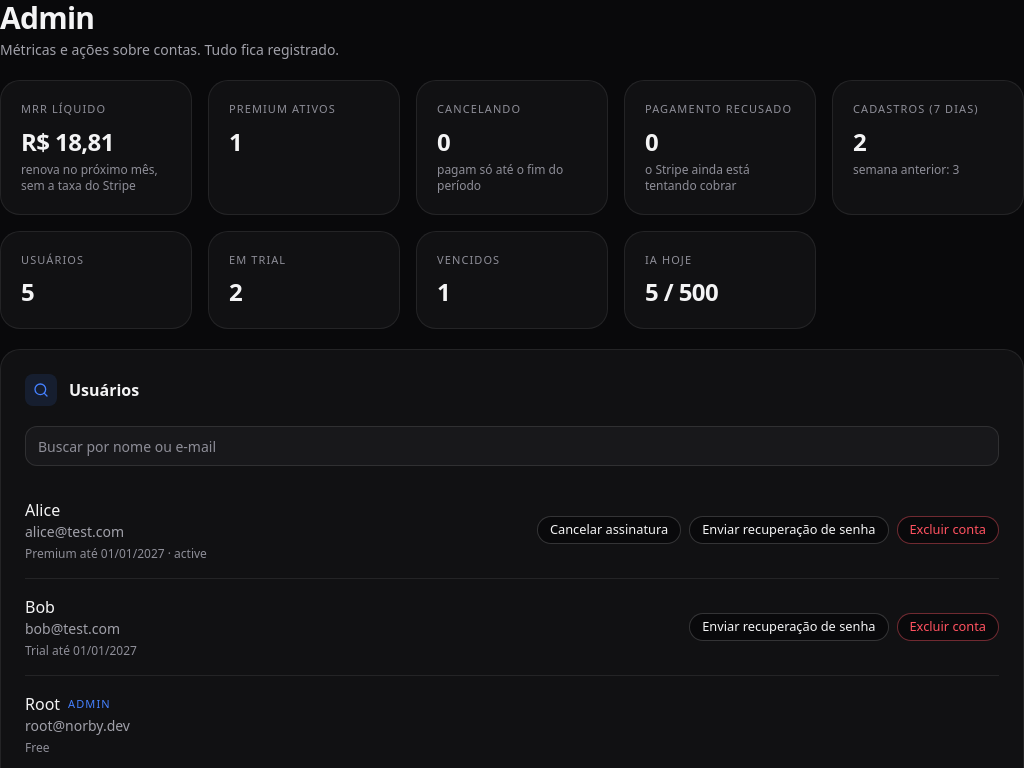
Test: Admin › mostra o estado vazio quando o filtro não encontra ninguém
Expected: the text "alice@test.com" is shown, [25,522,124,541]
Type "ninguemcomessenome" into the field named "Buscar usuário".
click(512, 446); type("ninguemcomessenome")  # box [25,426,999,466]
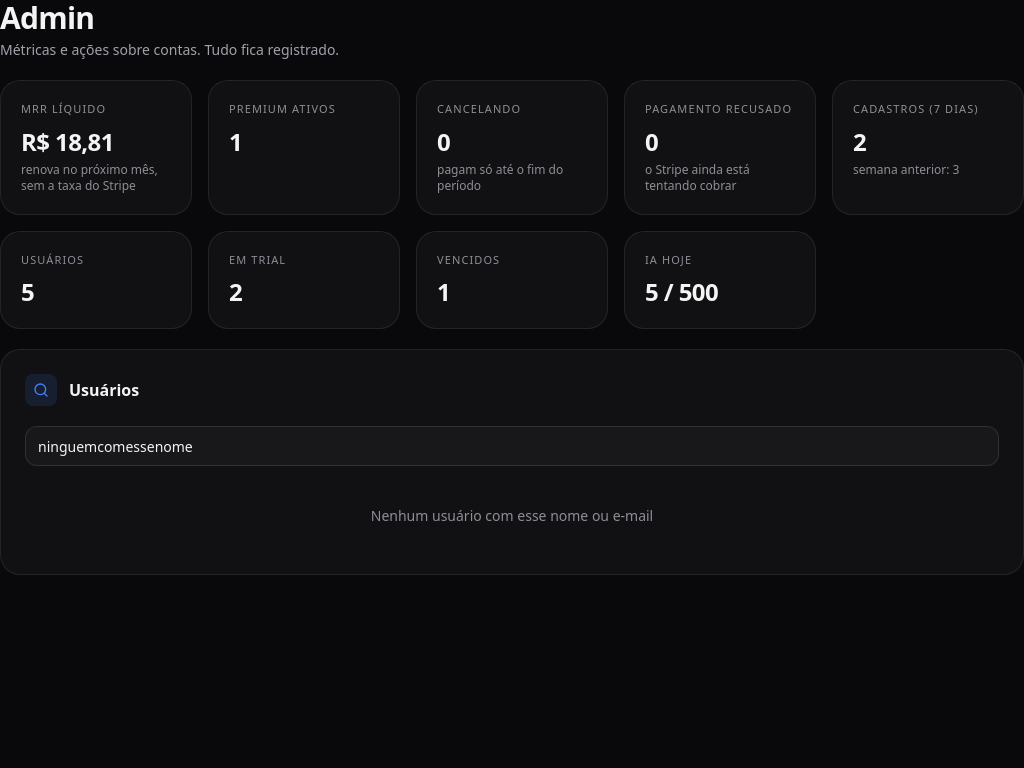
Expected: the text "Nenhum usuário com esse nome ou e-mail" is shown, [371,506,653,525]
